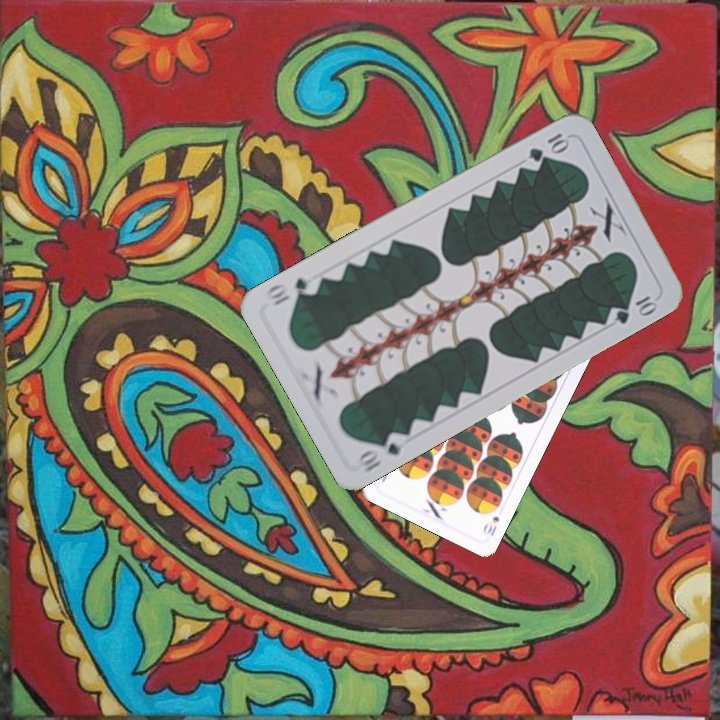G10: (354, 428, 411, 476), (525, 129, 573, 164)
S10: (479, 512, 502, 539)
